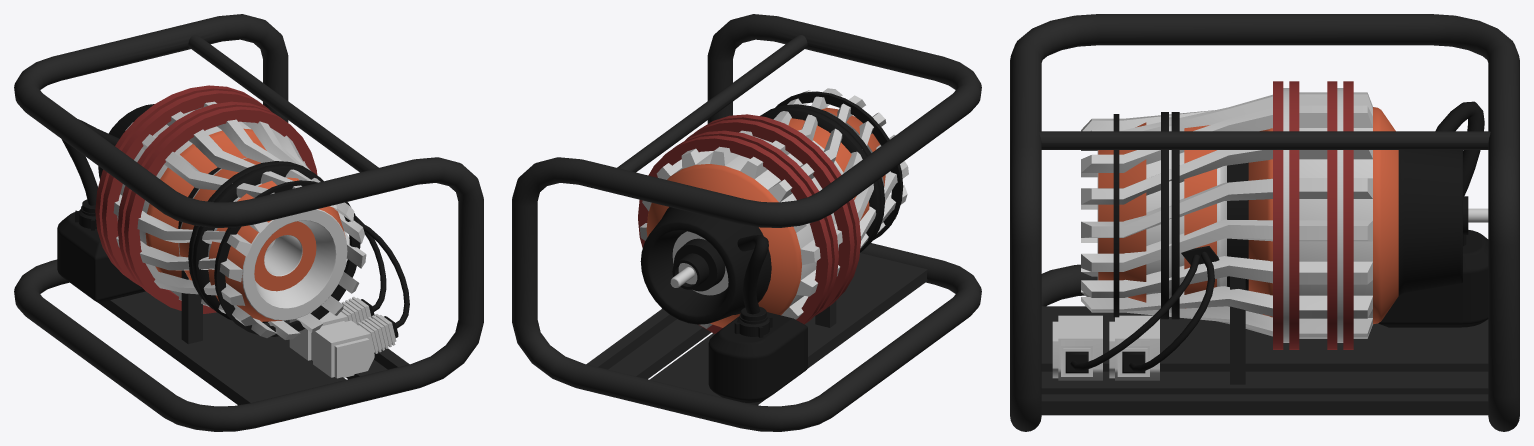
The model's file is PortableEngine2.fbx.
The picture shows the model from 3 angles, left to right: view 1: azimuth 30°, elevation 25°; view 2: azimuth 150°, elevation 25°; view 3: azimuth 270°, elevation 25°; orthographic projection. The views are drawn at different scales.
Parts seen in each view (by area): view 1: Cube.081, Cylinder.033, Cube.082, Cylinder.041, Cylinder.040, Cube.085, Cube.087, Cylinder.038, Cube.086, Cube.090, BezierCurve.016, BezierCurve.018 (+2 smaller); view 2: Cube.081, Cylinder.033, Cube.082, Cube.085, Cylinder.040, Cylinder.041, Cube.083, Cylinder.038, Cube.084, BezierCurve.016, Cylinder.042; view 3: Cylinder.033, Cube.081, Cube.082, Cube.084, Cube.083, Cylinder.040, Cylinder.041, Cube.085, Cube.087, Cube.086, BezierCurve.016, Cube.089 (+3 smaller).
Boxes of the visible parts, x1,y1,x2,y2 form: Cube.081: (14,14,483,431); Cylinder.033: (98,101,366,339); Cube.082: (99,291,346,405); Cylinder.041: (117,101,317,313); Cylinder.040: (95,85,270,286); Cube.085: (57,212,145,302); Cube.087: (313,314,398,378); Cylinder.038: (214,180,360,336); Cube.086: (289,296,374,360); Cube.090: (181,270,202,344); BezierCurve.016: (61,119,119,205); BezierCurve.018: (357,220,409,328); Cube.081: (512,14,981,431); Cylinder.033: (639,88,908,328); Cube.082: (649,253,927,405); Cube.085: (708,312,807,402); Cylinder.040: (638,130,838,333); Cylinder.041: (685,114,860,315); Cube.083: (608,319,711,379); Cylinder.038: (775,91,903,240); Cube.084: (586,308,676,369); BezierCurve.016: (737,235,768,314); Cylinder.042: (734,306,772,337); Cylinder.033: (1081,92,1488,338); Cube.081: (1010,14,1519,431); Cube.082: (1041,306,1488,371); Cube.084: (1041,394,1488,415); Cube.083: (1041,371,1488,394); Cylinder.040: (1327,81,1353,349); Cylinder.041: (1273,81,1299,349); Cube.085: (1378,230,1488,327); Cube.087: (1052,315,1102,380); Cube.086: (1109,315,1159,380); BezierCurve.016: (1435,101,1484,196); Cube.089: (1230,257,1245,384).
Bounding box in the file's own units: 348 × 258 × 428.
